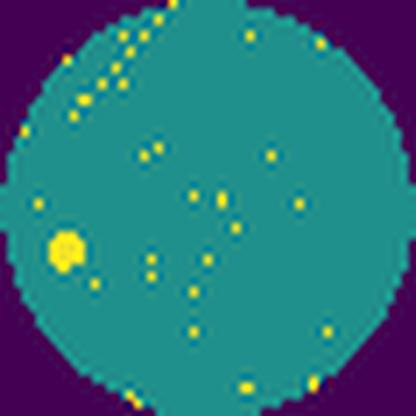Edge-Loc: (41, 228, 89, 274)
